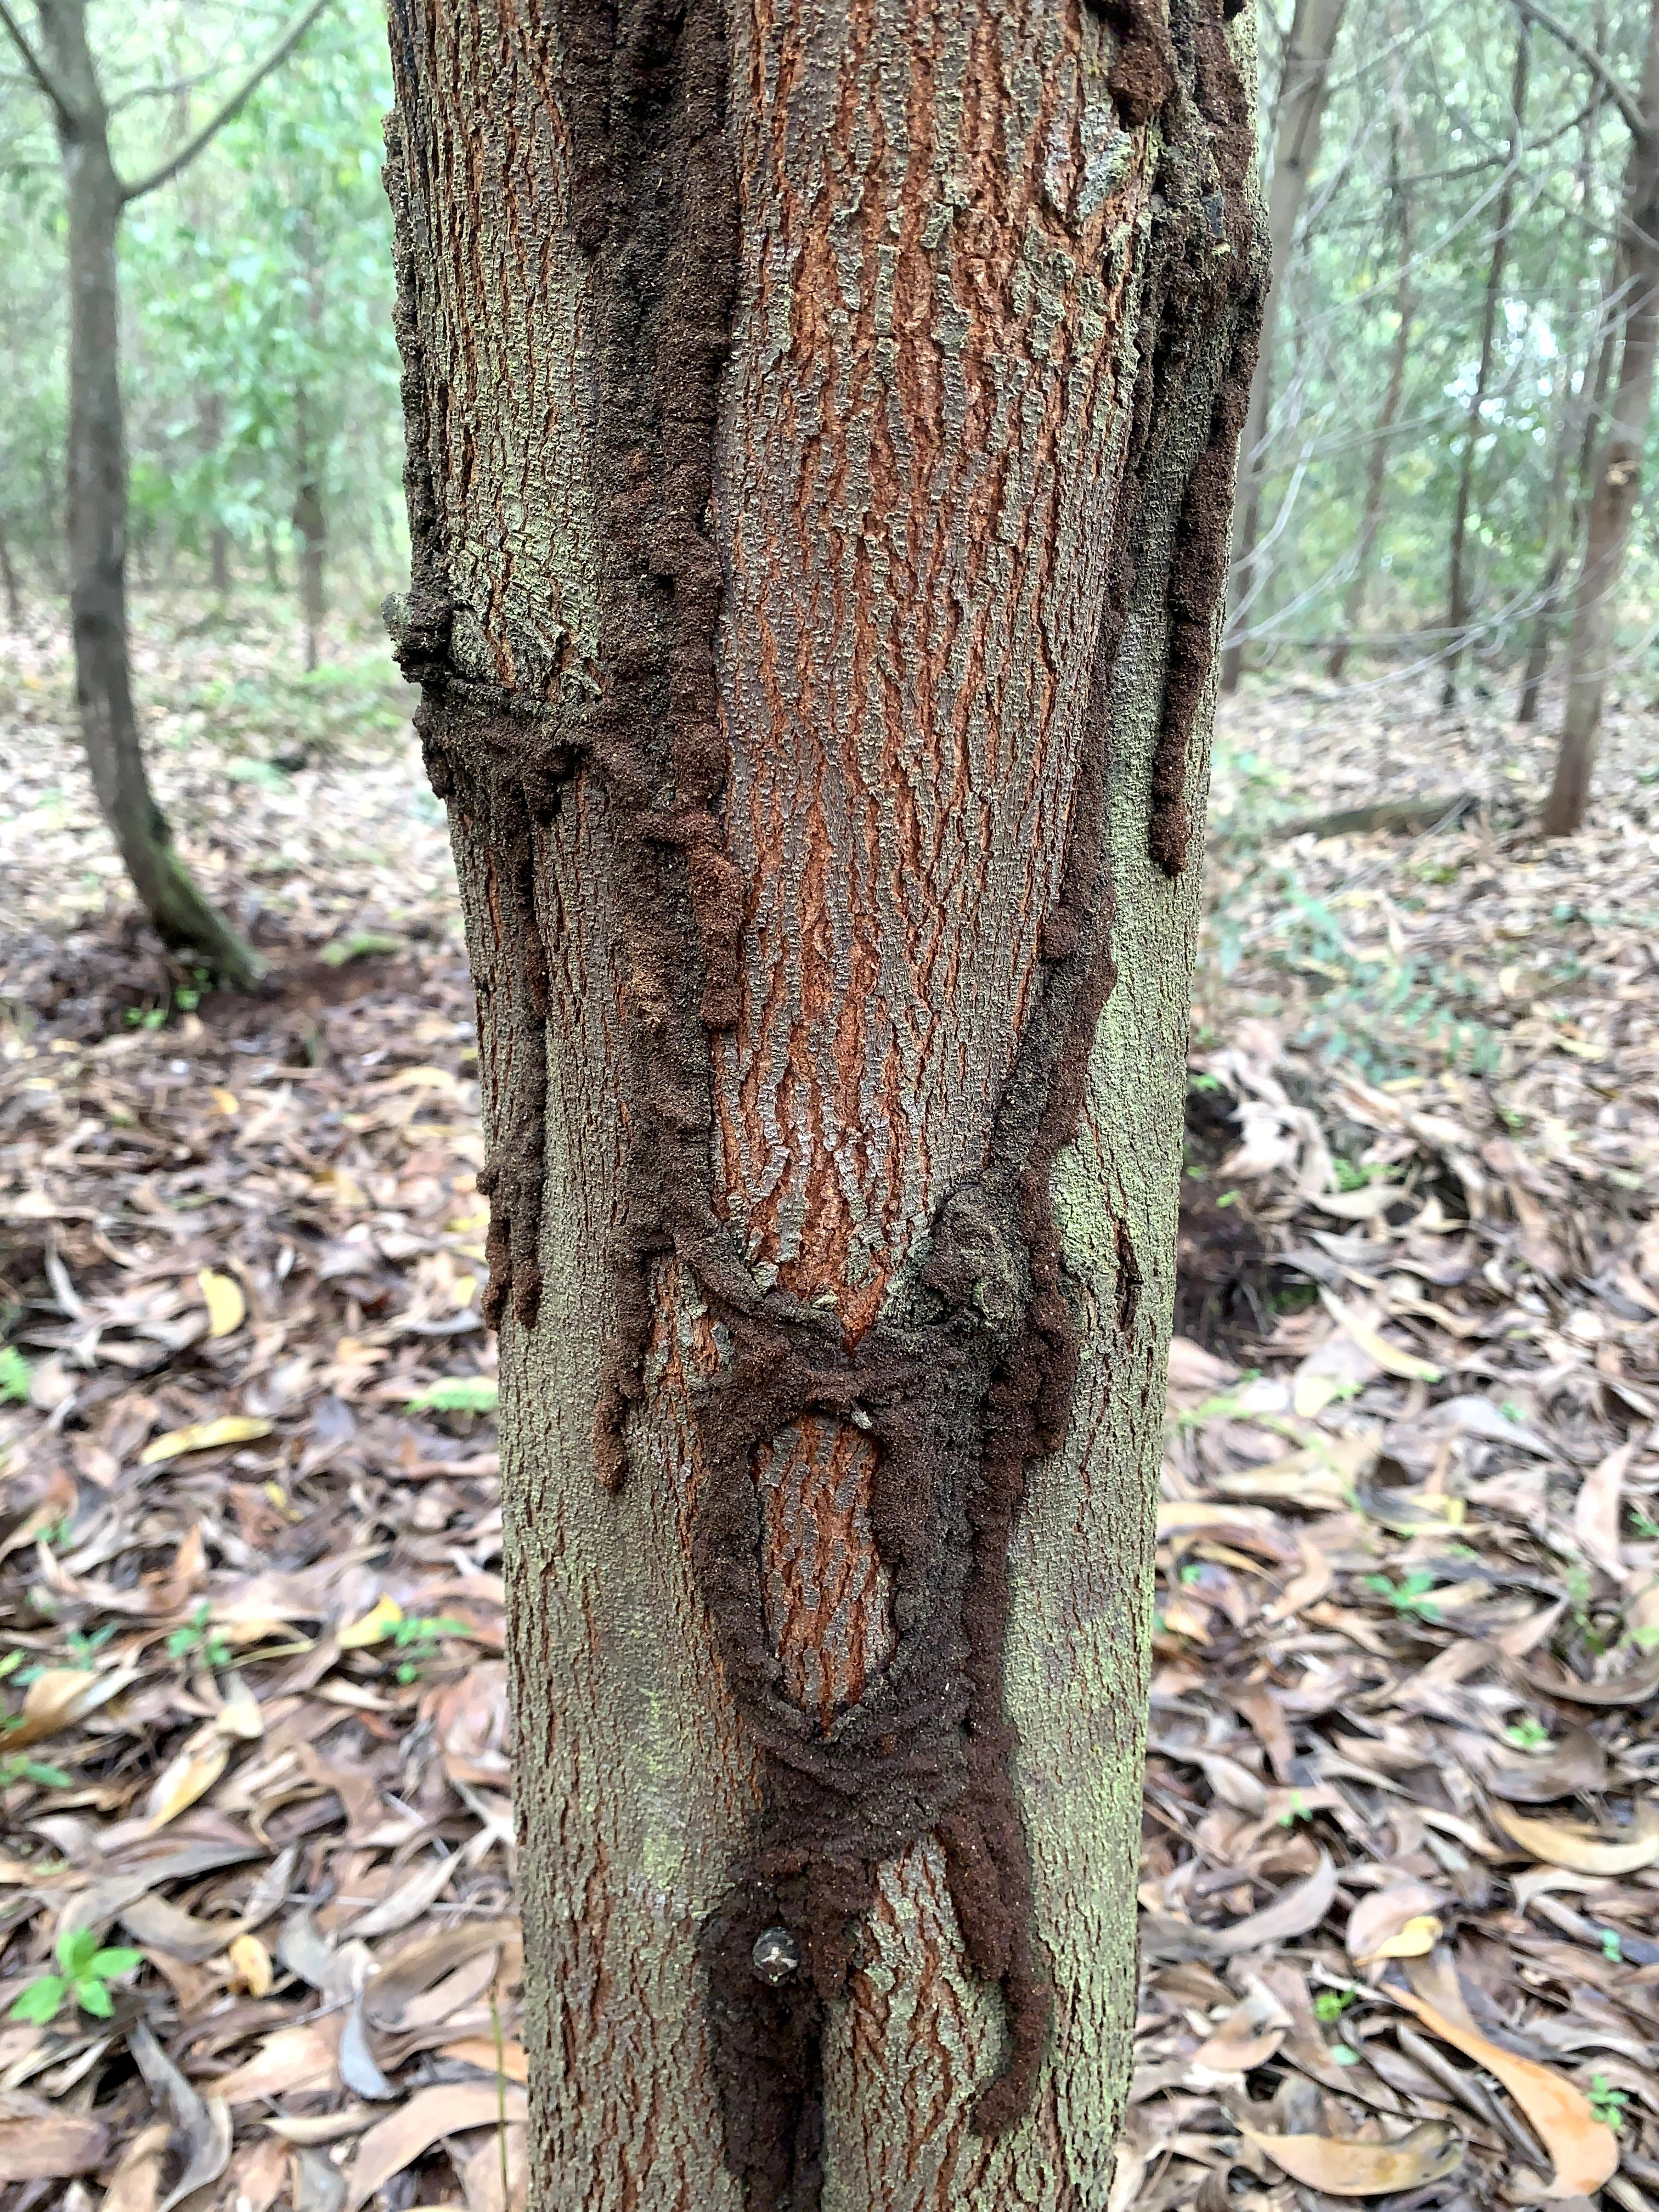Stem Deformation: (791, 28, 1051, 888)
Termite - Nest: (385, 0, 1215, 2212)
